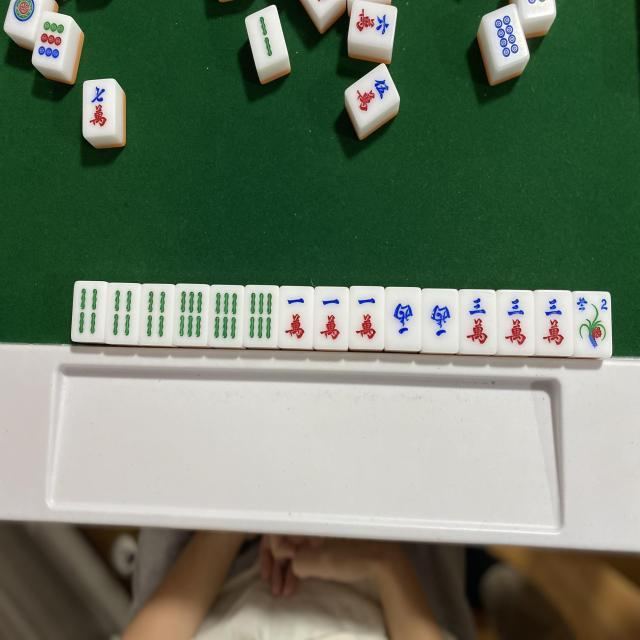bf2: (572, 290, 611, 352)
hww: (426, 290, 457, 350), (388, 292, 420, 345)
sb4: (72, 286, 105, 343), (110, 288, 142, 344), (142, 285, 174, 341)
sb6: (246, 288, 279, 346), (210, 289, 243, 345), (174, 288, 207, 344)
sc1: (317, 288, 350, 346), (279, 289, 312, 346), (350, 287, 382, 345)
sc3: (498, 294, 533, 356), (462, 290, 497, 350)
sc7: (538, 295, 572, 356)
